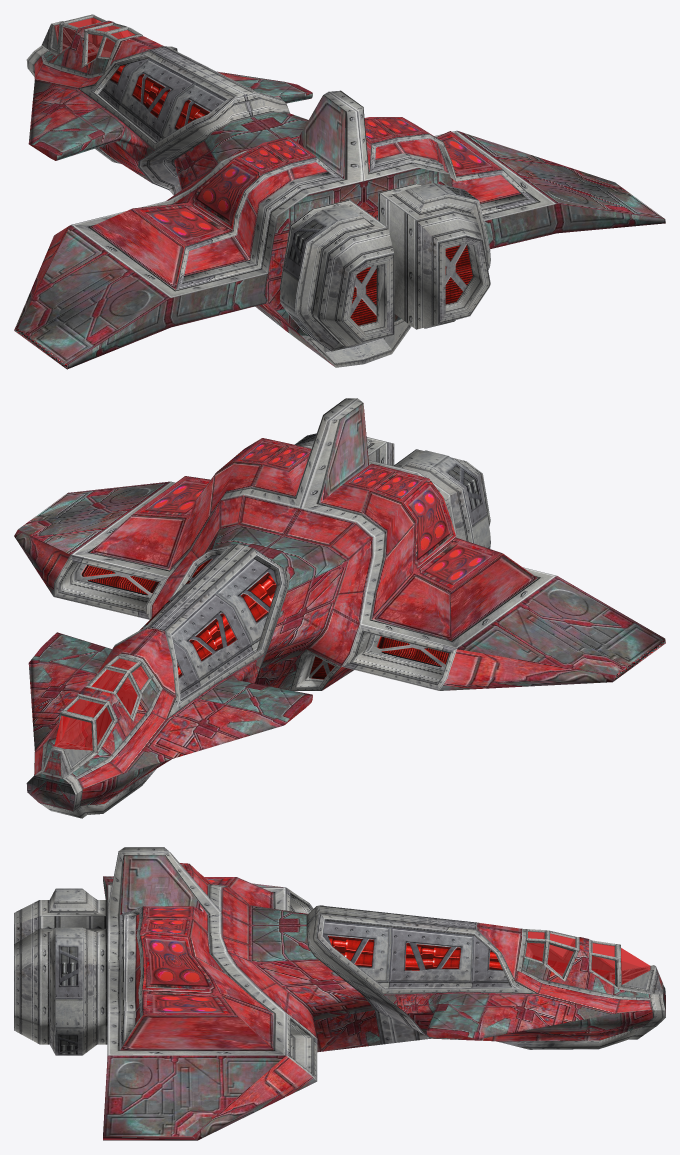
The model's file is frz.obj.
3 renders of one model, top to bottom at view 1: azimuth 30°, elevation 25°; view 2: azimuth 150°, elevation 25°; view 3: azimuth 270°, elevation 25°, orthographic. The views are drawn at different scales.
Visible parts, largest first — view 1: ships; view 2: ships; view 3: ships.
Boxes of the visible parts, box(x1,y1,x2,y2) form: ships: box(14, 14, 665, 369); ships: box(14, 398, 665, 818); ships: box(14, 847, 665, 1140).
Bounding box in the file's own units: 19.81 × 7.84 × 20.94.
Materials: 6 (5 with a texture image).
